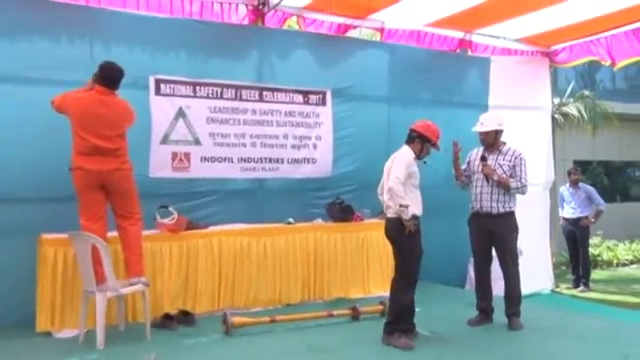helmet: (408, 118, 442, 150), (470, 111, 507, 134)
helmet_off: (91, 59, 125, 93), (566, 165, 582, 187)
helmet_on: (404, 119, 441, 165), (468, 112, 507, 151)
person: (50, 60, 153, 288), (451, 112, 529, 334), (375, 118, 442, 352), (555, 165, 606, 294)
